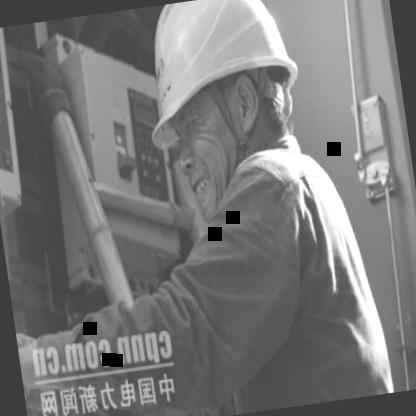helmet: (124, 0, 329, 230)
